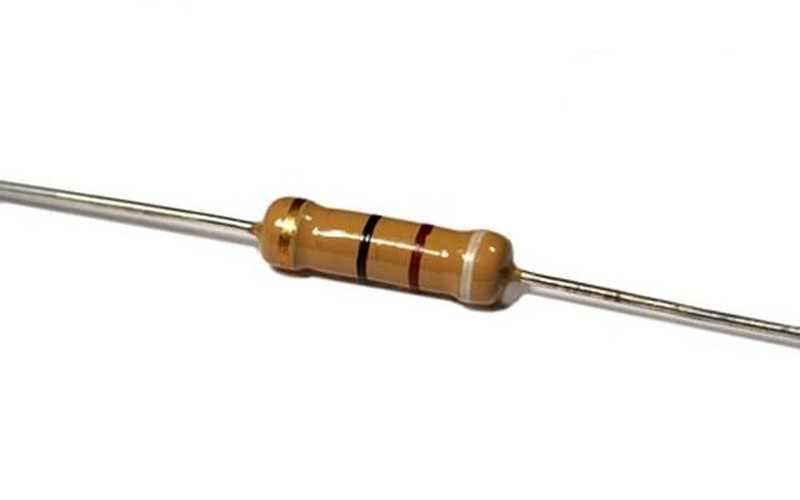Resistor: (207, 160, 562, 336)
